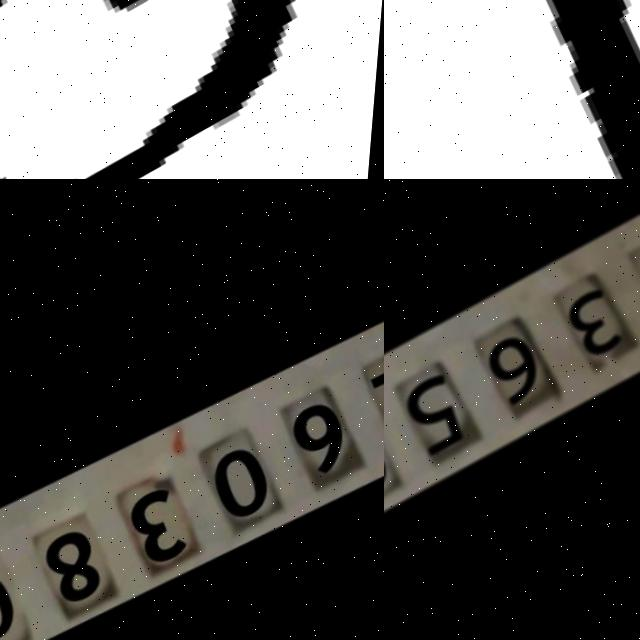0: (193, 429, 300, 544), (0, 545, 52, 640)
2: (358, 347, 384, 456)
3: (114, 469, 221, 587), (555, 276, 640, 381)
5: (392, 359, 495, 475)
6: (273, 382, 382, 502), (476, 320, 570, 426)
8: (30, 509, 137, 626)
9: (384, 410, 415, 519)
I: (540, 0, 640, 179)
Q: (0, 0, 384, 179)
